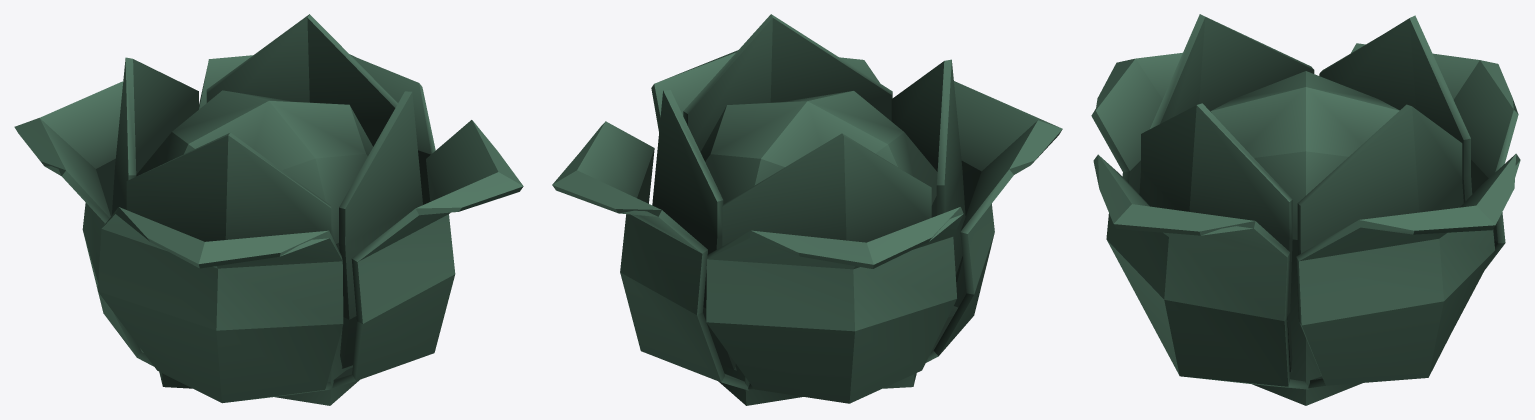
Rendered from pq_chou.glb.
The picture shows the model from 3 angles, left to right: view 1: azimuth 30°, elevation 25°; view 2: azimuth 150°, elevation 25°; view 3: azimuth 270°, elevation 25°; orthographic projection. The views are drawn at different scales.
Parts seen in each view (by area): view 1: Lettuce_Whole; view 2: Lettuce_Whole; view 3: Lettuce_Whole.
Boxes of the visible parts, x1=… form: Lettuce_Whole: x1=14, y1=14, x2=523, y2=405; Lettuce_Whole: x1=552, y1=14, x2=1062, y2=405; Lettuce_Whole: x1=1091, y1=14, x2=1520, y2=405.
Size of the model in its own units: 0.1993 by 0.1642 by 0.1993.
